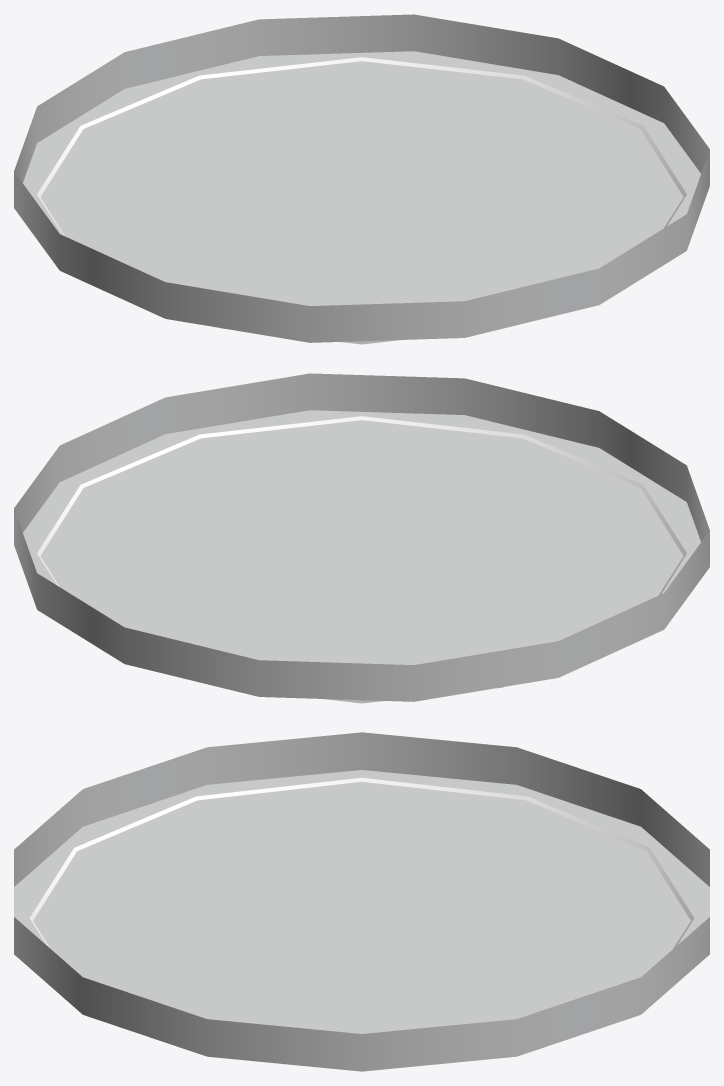
Rendered from M_woshideng01.FBX.
3 renders of one model, top to bottom at view 1: azimuth 30°, elevation 25°; view 2: azimuth 150°, elevation 25°; view 3: azimuth 270°, elevation 25°, orthographic. The views are drawn at different scales.
Visible parts, largest first — view 1: M_woshideng01_01, M_woshideng01_02; view 2: M_woshideng01_01, M_woshideng01_02; view 3: M_woshideng01_01, M_woshideng01_02.
Part boxes in pixels (x1,y1,x2,y2): M_woshideng01_01: (14,14,709,342); M_woshideng01_02: (37,57,686,344); M_woshideng01_01: (14,373,709,701); M_woshideng01_02: (37,416,686,703); M_woshideng01_01: (14,732,709,1071); M_woshideng01_02: (29,777,694,948).
Size of the model in its own units: 1.51 by 0.2293 by 1.47.
